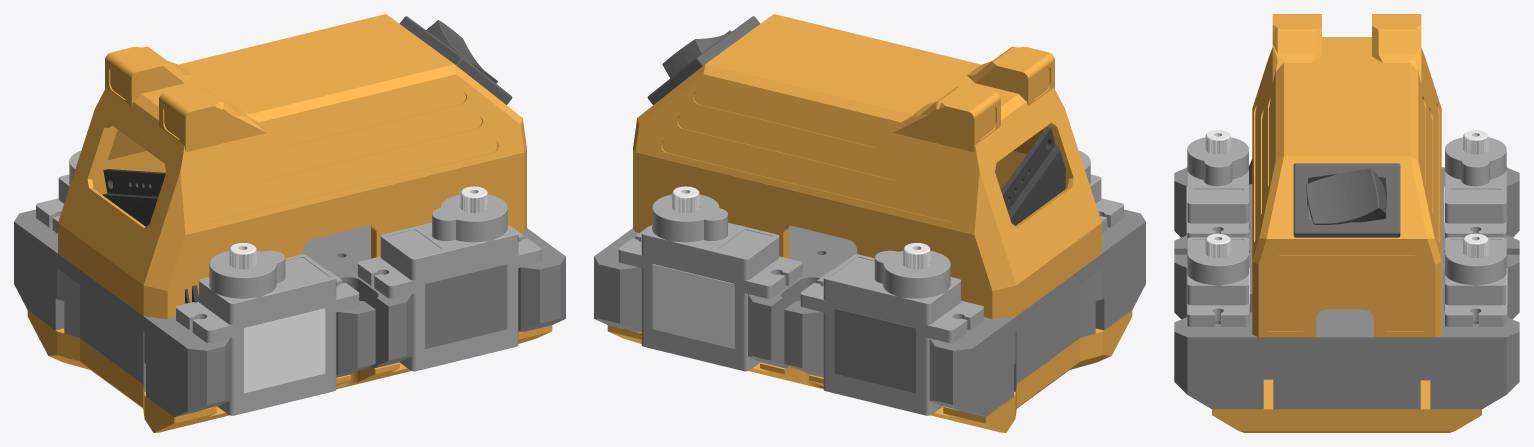
Rendered from chassis.glb.
3 views of the same model, side by side, from view 1: azimuth 30°, elevation 25°; view 2: azimuth 150°, elevation 25°; view 3: azimuth 270°, elevation 25° (orthographic). The views are drawn at different scales.
Visible parts, largest first — view 1: top_cover, internal_frame, sg90_top, sg90_top_2, bottom_cover, sg90_side_left, sg90_side_right_2, oled_128x64_0_96_v1_main, sg90_bottom, sg90_bottom_2, kcd1_b2_base, sg90_body (+5 smaller); view 2: top_cover, internal_frame, sg90_top_3, sg90_top_4, bottom_cover, sg90_side_right_3, sg90_side_left_4, oled_128x64_0_96_v1_main, sg90_bottom_3, sg90_bottom_4, kcd1_b2_base, sg90_body_3 (+5 smaller); view 3: top_cover, internal_frame, bottom_cover, sg90_top_2, sg90_top_4, sg90_top, sg90_top_3, kcd1_b2_base, kcd1_b2_rocker, sg90_pin_2, sg90_pin_4, sg90_pin (+1 smaller).
Boxes of the visible parts, x1,y1,x2,y2 form: top_cover: (58,14,526,318); internal_frame: (14,209,565,417); sg90_top: (357,194,541,298); sg90_top_2: (176,250,359,342); bottom_cover: (27,310,552,432); sg90_side_left: (425,264,507,348); sg90_side_right_2: (244,308,325,393); oled_128x64_0_96_v1_main: (102,169,198,303); sg90_bottom: (399,319,518,371); sg90_bottom_2: (217,363,336,415); kcd1_b2_base: (399,16,512,104); sg90_body: (412,268,518,344); top_cover: (633,14,1101,318); internal_frame: (594,209,1145,417); sg90_top_3: (618,194,802,298); sg90_top_4: (800,250,983,342); bottom_cover: (607,310,1132,432); sg90_side_right_3: (652,264,734,348); sg90_side_left_4: (834,308,915,393); oled_128x64_0_96_v1_main: (1001,127,1065,225); sg90_bottom_3: (641,319,760,371); sg90_bottom_4: (823,363,942,415); kcd1_b2_base: (647,16,760,104); sg90_body_3: (641,268,747,344); top_cover: (1252,14,1441,337); internal_frame: (1174,167,1519,409); bottom_cover: (1212,379,1481,432); sg90_top_2: (1187,137,1248,238); sg90_top_4: (1445,137,1506,238); sg90_top: (1187,237,1248,326); sg90_top_3: (1445,237,1506,326); kcd1_b2_base: (1293,163,1400,237); kcd1_b2_rocker: (1306,168,1386,224); sg90_pin_2: (1205,130,1230,154); sg90_pin_4: (1463,130,1488,154); sg90_pin: (1205,233,1230,257).
Bounding box in the file's own units: 0.5619 × 0.4281 × 0.4766.
